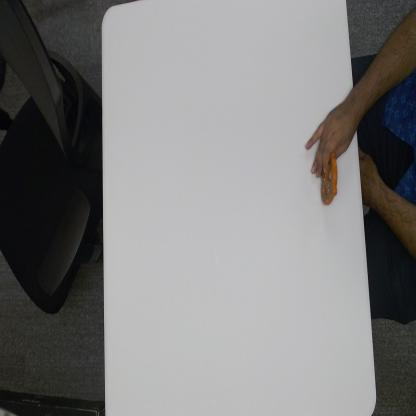Hand: (305, 97, 363, 177)
Pretzel: (321, 152, 339, 209)
